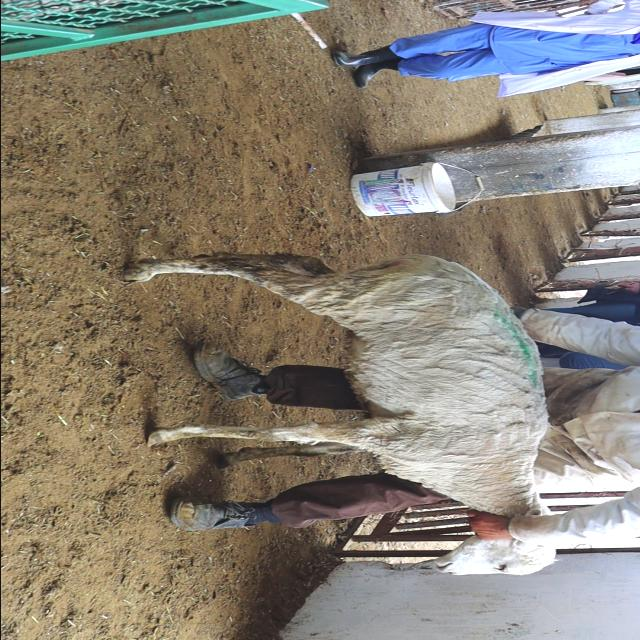Score_5: (123, 252, 546, 516)
